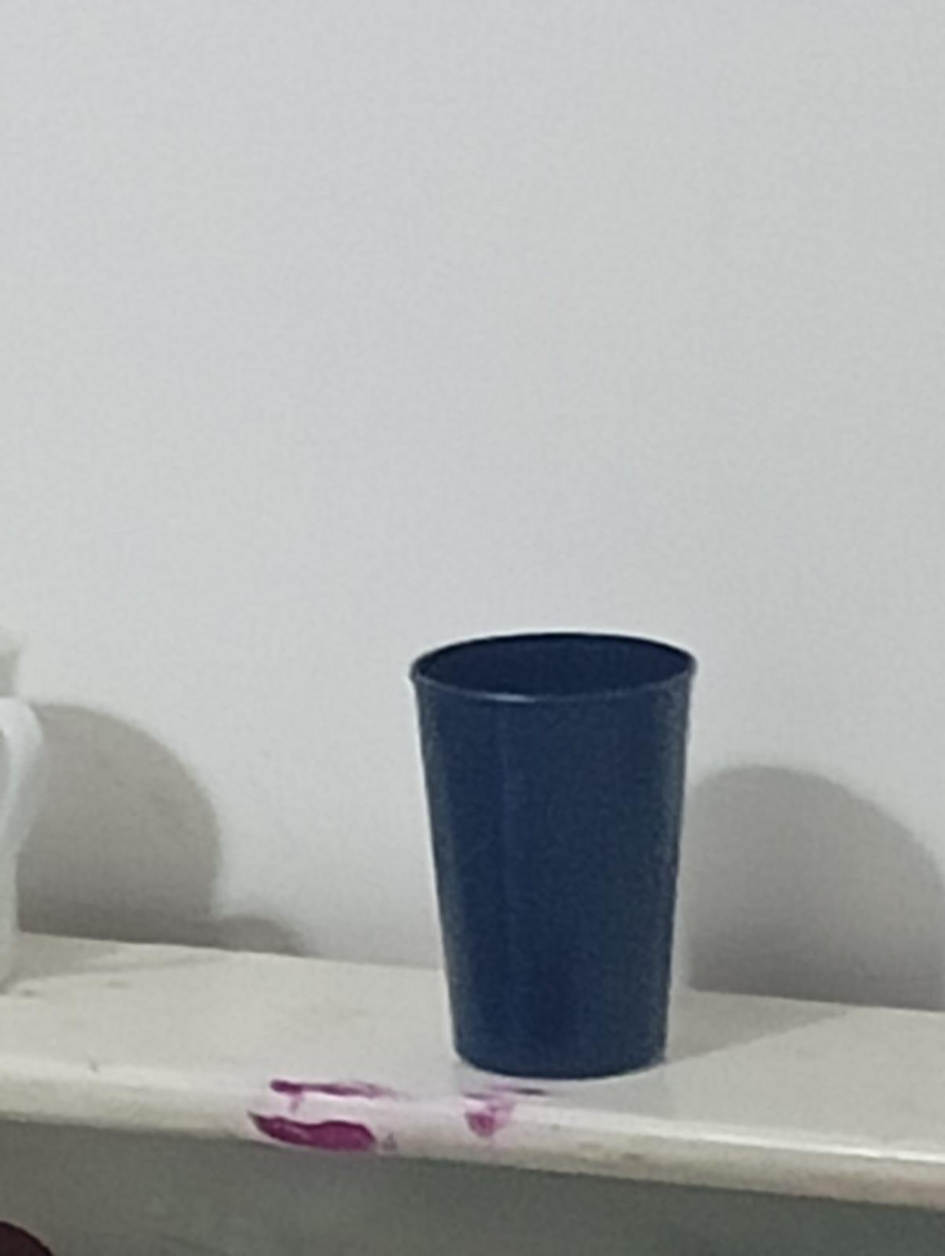cup: (411, 633, 694, 1077), (0, 633, 46, 982)
